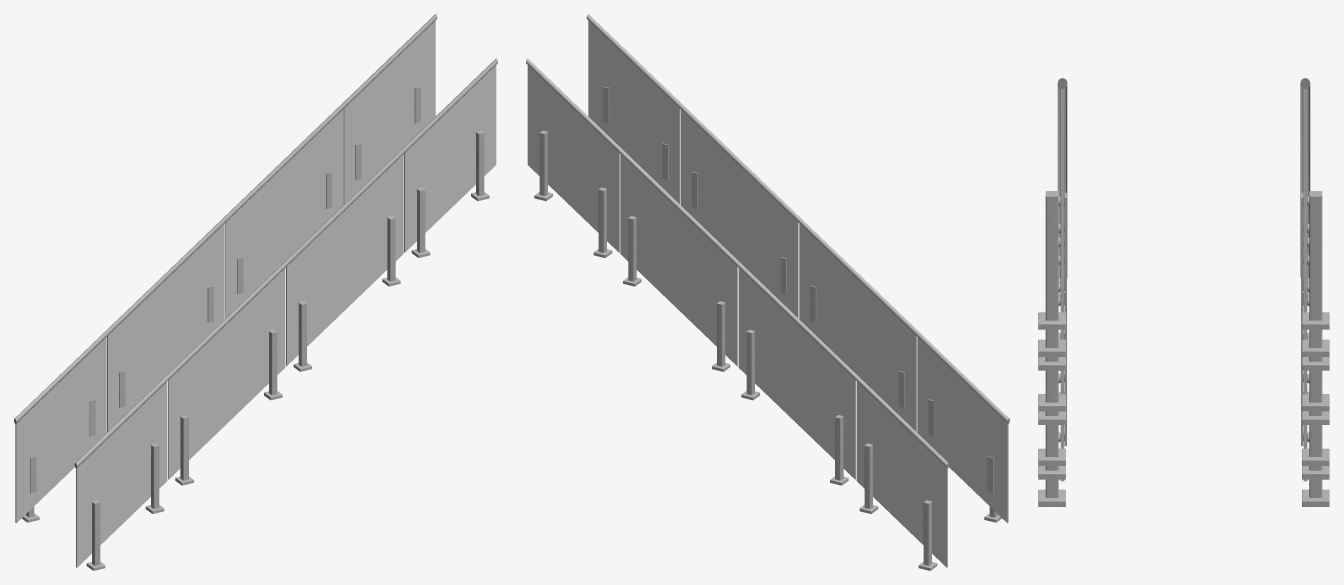
Rendered from Straight_Railing_Lo-Post_Square.gltf.
The picture shows the model from 3 angles, left to right: view 1: azimuth 30°, elevation 25°; view 2: azimuth 150°, elevation 25°; view 3: azimuth 270°, elevation 25°; orthographic projection. The views are drawn at different scales.
Visible parts, largest first — view 1: Box011, Box010, Generic Models 11 Generic Models 11 [8762451]009, Generic Models 11 Generic Models 11 [8762451]010; view 2: Box010, Box011, Generic Models 11 Generic Models 11 [8762451]010, Generic Models 11 Generic Models 11 [8762451]009; view 3: LS208 & LS209 - Circum Square Post Material LS Material [922 (×6), Box010, Box011, Generic Models 11 Generic Models 11 [8762451]009, Generic Models 11 Generic Models 11 [8762451]010, CSQ001-US - Surface Mount Weldment Part [8723797]181, CSQ001-US - Surface Mount Weldment Part [8723797]180, CSQ001-US - Surface Mount Weldment Part [8723797]167, CSQ001-US - Surface Mount Weldment Part [8723797]170, CSQ001-US - Surface Mount Weldment Part [8723797]179, CSQ001-US - Surface Mount Weldment Part [8723797]177, CSQ001-US - Surface Mount Weldment Part [8723797]175 (+3 smaller).
Part boxes in pixels (bbox=[...]): Box011: bbox=[15, 21, 435, 523]; Box010: bbox=[76, 65, 496, 567]; Generic Models 11 Generic Models 11 [8762451]009: bbox=[14, 14, 437, 423]; Generic Models 11 Generic Models 11 [8762451]010: bbox=[74, 58, 497, 468]; Box010: bbox=[588, 21, 1008, 523]; Box011: bbox=[527, 65, 947, 567]; Generic Models 11 Generic Models 11 [8762451]010: bbox=[586, 14, 1009, 423]; Generic Models 11 Generic Models 11 [8762451]009: bbox=[526, 58, 949, 468]; LS208 & LS209 - Circum Square Post Material LS Material [922 (×6): bbox=[1045, 197, 1322, 456]; Box010: bbox=[1060, 89, 1064, 481]; Box011: bbox=[1303, 89, 1307, 481]; Generic Models 11 Generic Models 11 [8762451]009: bbox=[1300, 78, 1310, 278]; Generic Models 11 Generic Models 11 [8762451]010: bbox=[1057, 78, 1067, 278]; CSQ001-US - Surface Mount Weldment Part [8723797]181: bbox=[1302, 394, 1329, 411]; CSQ001-US - Surface Mount Weldment Part [8723797]180: bbox=[1302, 312, 1329, 329]; CSQ001-US - Surface Mount Weldment Part [8723797]167: bbox=[1038, 394, 1065, 411]; CSQ001-US - Surface Mount Weldment Part [8723797]170: bbox=[1038, 312, 1065, 329]; CSQ001-US - Surface Mount Weldment Part [8723797]179: bbox=[1302, 339, 1329, 356]; CSQ001-US - Surface Mount Weldment Part [8723797]177: bbox=[1302, 489, 1329, 506]; CSQ001-US - Surface Mount Weldment Part [8723797]175: bbox=[1302, 448, 1329, 465].
Size of the model in its own units: 3.79 by 3.52 by 1.14.
